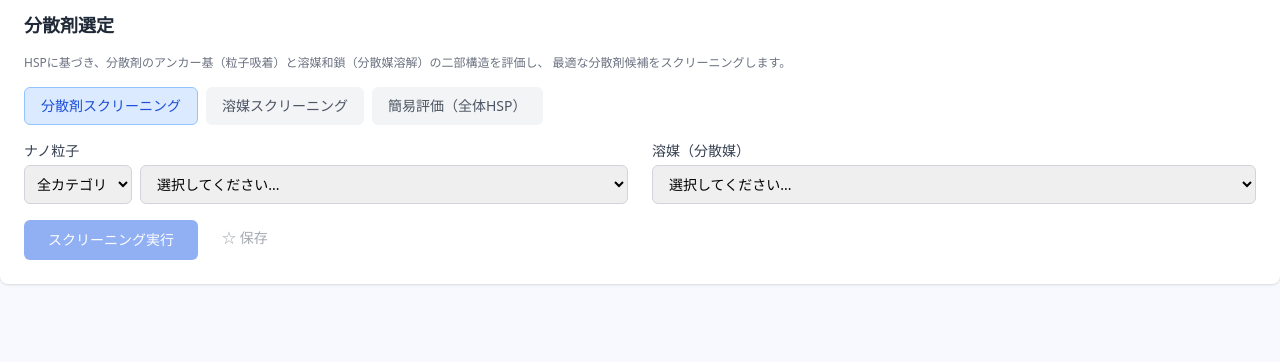
Test: DispersantSelectionView › 粒子選択で情報パネルが表示される
Note: 粒子セレクタ（2番目のcombobox: カテゴリの次）
Select "カーボンブラック (Carbon Black)" in the 2nd dropdown: (384,184) [140,165,628,204]
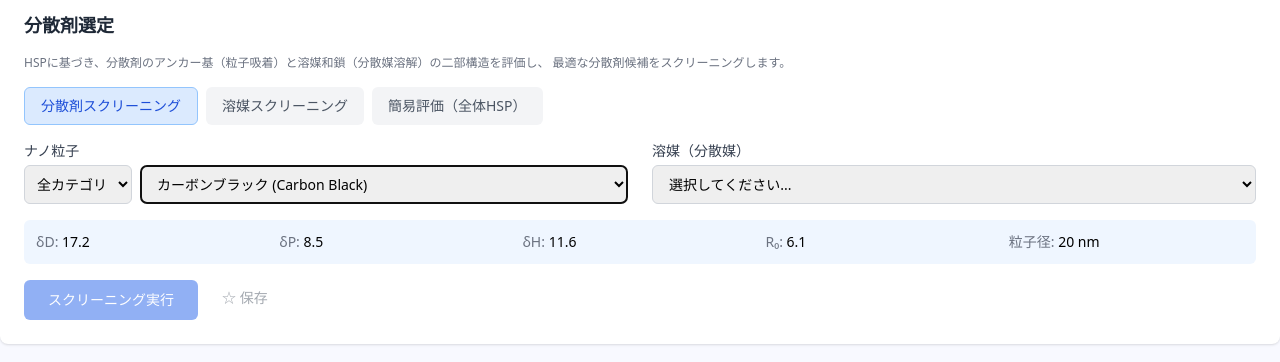
Check: the text "δD:" is shown, box [36,232,58,251]
Check: the text "R₀:" is shown, box [766,232,783,251]
Check: the text "粒子径:" is shown, box [1009,232,1055,251]
